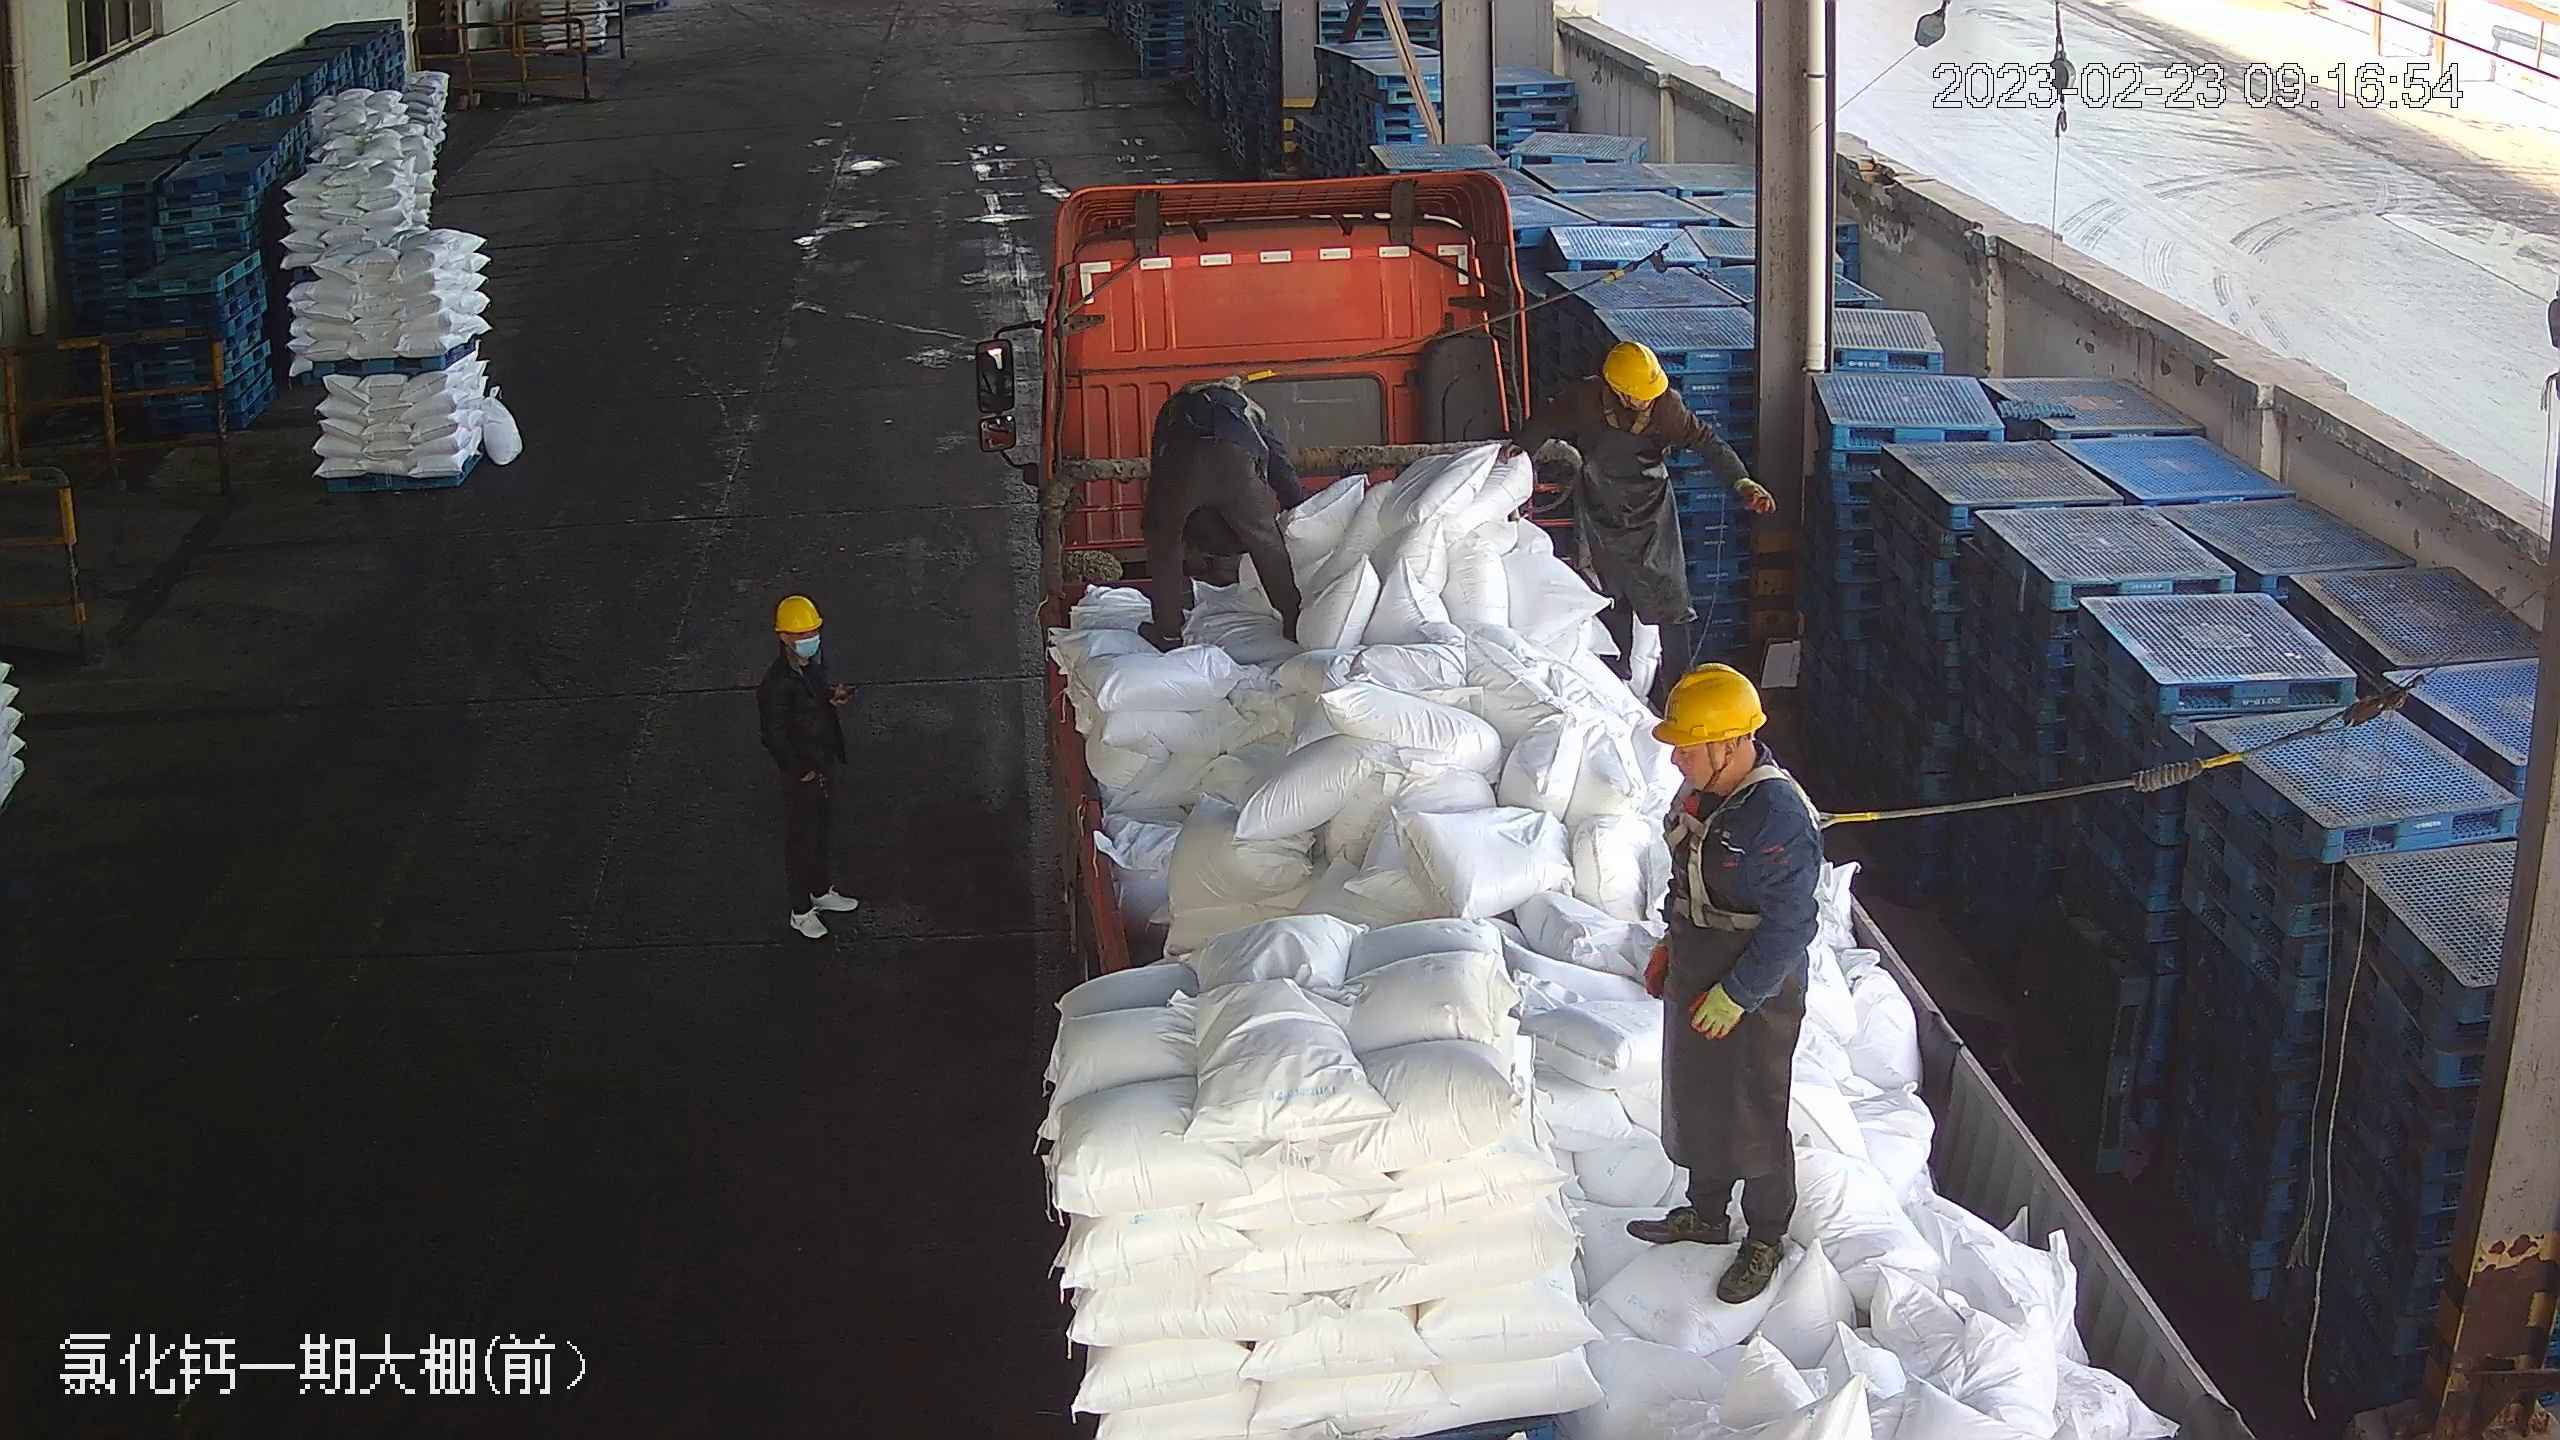belt: (1669, 781, 1842, 937), (1194, 376, 1262, 429), (1601, 382, 1654, 433)
head: (1647, 661, 1814, 867), (1571, 338, 1682, 442), (756, 593, 838, 696)
helmet: (1647, 659, 1767, 741), (1597, 337, 1669, 398), (770, 592, 824, 633)
people: (1628, 659, 1828, 1311), (1513, 334, 1771, 704), (1127, 375, 1313, 661), (750, 588, 870, 944)
truck: (975, 159, 2261, 1437)
